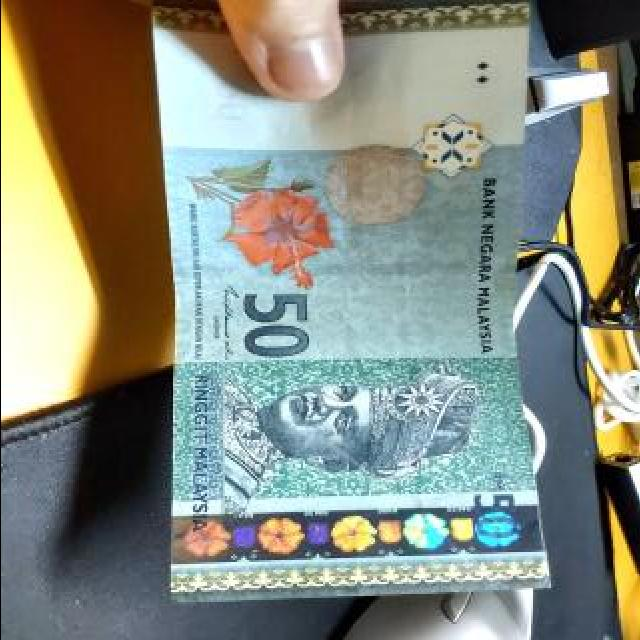50 Ringgit: (157, 2, 560, 610)
